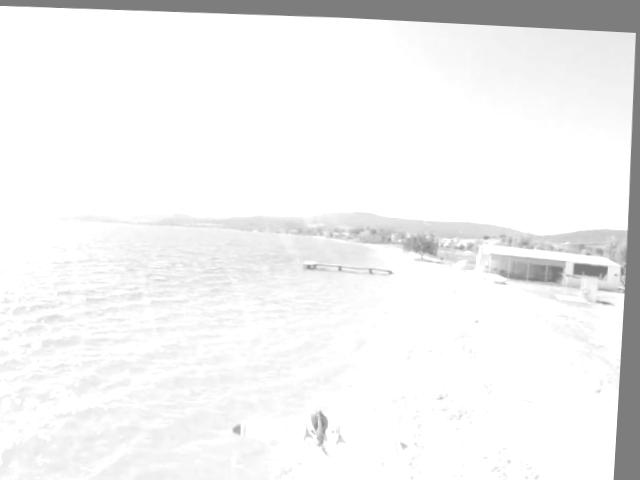hedef: (218, 389, 428, 472)
